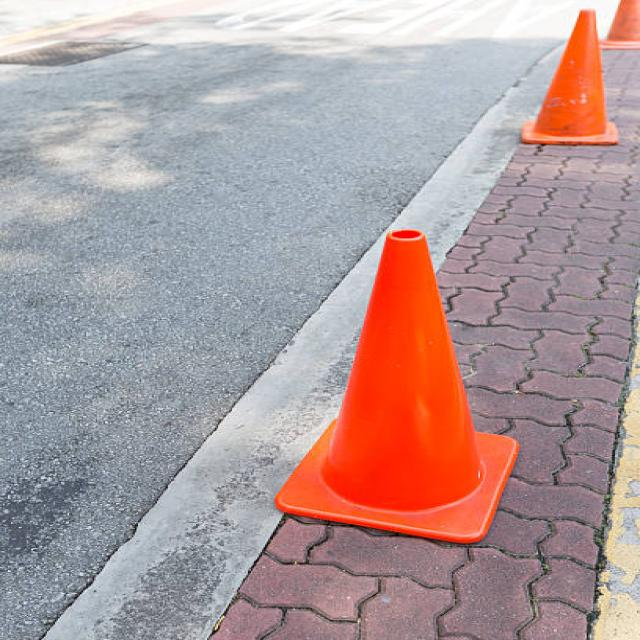Traffic Cone: (240, 201, 568, 582), (491, 0, 640, 163)
